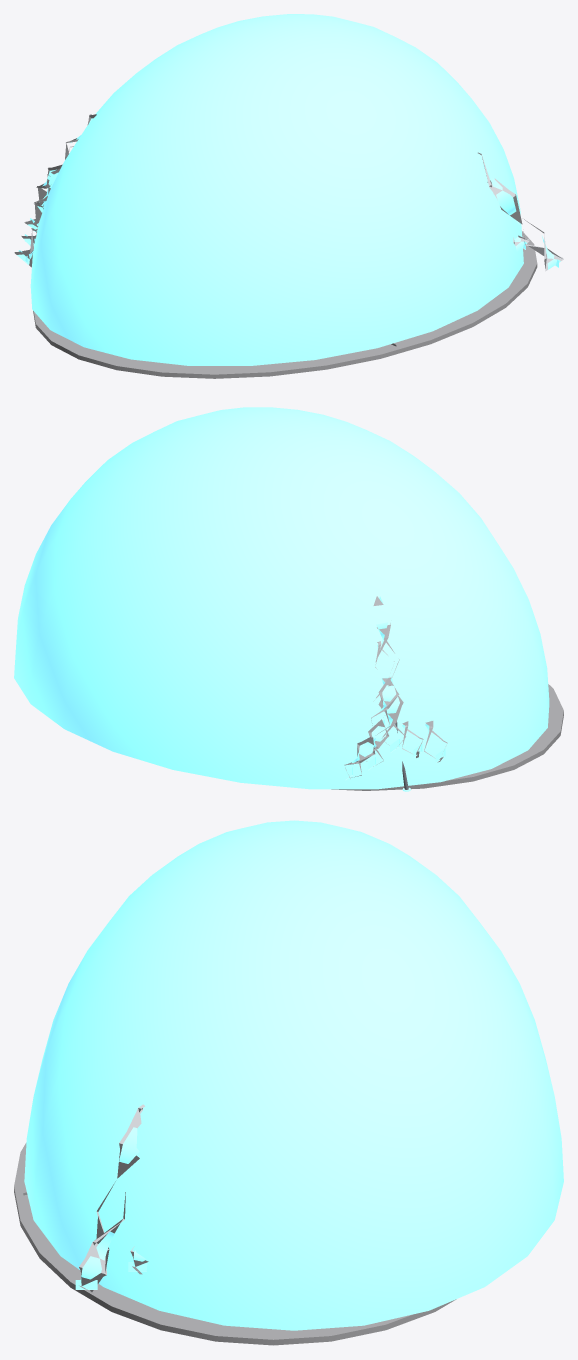
The model's file is tron_source.glb.
3 views of the same model, one above another, from view 1: azimuth 30°, elevation 25°; view 2: azimuth 150°, elevation 25°; view 3: azimuth 270°, elevation 25° (orthographic). The views are drawn at different scales.
Parts seen in each view (by area): view 1: blue_glow, concrete, silver_ribbons; view 2: blue_glow, concrete, silver_ribbons; view 3: blue_glow, concrete, silver_ribbons.
Part boxes in pixels (x1=…): blue_glow: x1=17, y1=14, x2=560, y2=365; concrete: x1=33, y1=231, x2=537, y2=378; silver_ribbons: x1=14, y1=114, x2=563, y2=271; blue_glow: x1=14, y1=407, x2=549, y2=791; concrete: x1=331, y1=684, x2=563, y2=790; silver_ribbons: x1=344, y1=596, x2=447, y2=778; blue_glow: x1=24, y1=820, x2=563, y2=1330; concrete: x1=14, y1=1143, x2=456, y2=1345; silver_ribbons: x1=79, y1=1104, x2=148, y2=1293.
Bounding box in the file's own units: 70 × 36.1 × 53.
